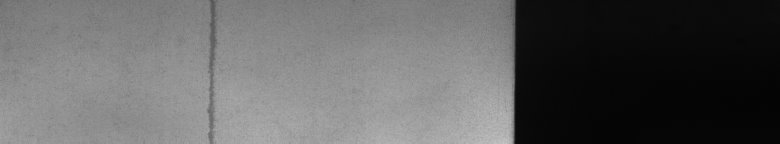hd: (199, 4, 222, 136)
